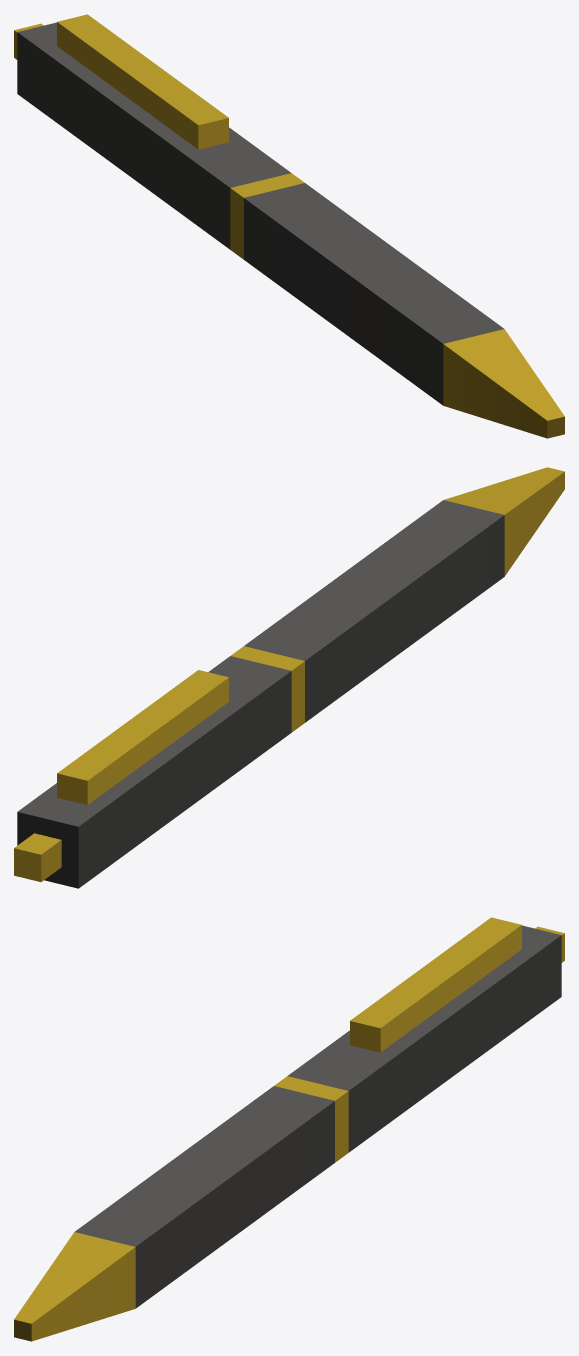
The model's file is SO_Pen_03.fbx.
3 renders of one model, top to bottom at view 1: azimuth 30°, elevation 25°; view 2: azimuth 150°, elevation 25°; view 3: azimuth 330°, elevation 25°, orthographic.
Parts seen in each view (by area): view 1: SO_Pen_03; view 2: SO_Pen_03; view 3: SO_Pen_03.
Part boxes in pixels (<box>): SO_Pen_03: <box>14,14,564,438</box>; SO_Pen_03: <box>14,467,564,888</box>; SO_Pen_03: <box>14,917,564,1341</box>.
Size of the model in its own units: 0.0321 by 0.0431 by 0.4792.
